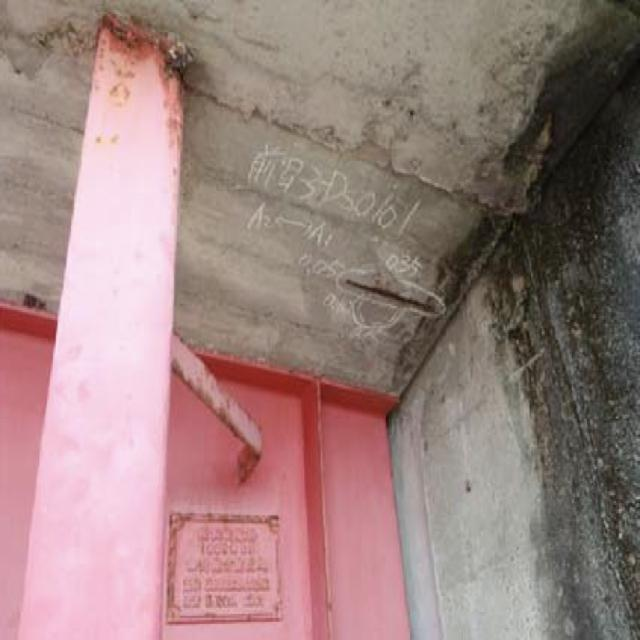corrosion: (45, 14, 188, 86)
leakage: (517, 57, 640, 609)
spalling: (340, 233, 434, 343)
